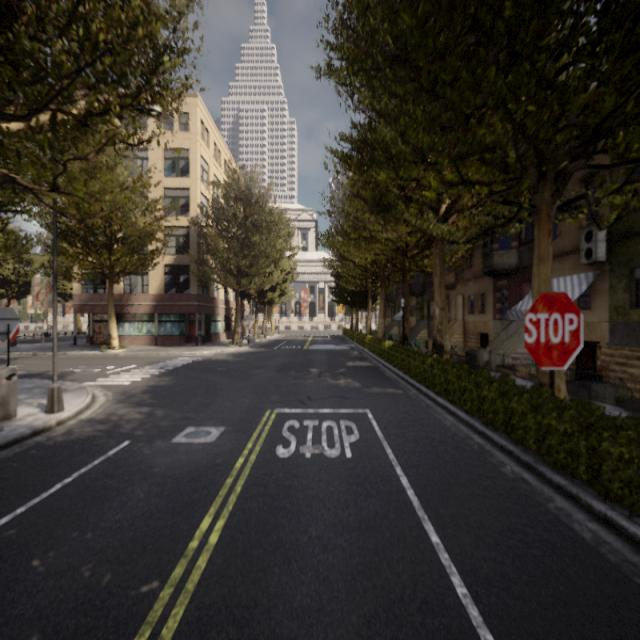stop sign: (520, 288, 585, 372)
